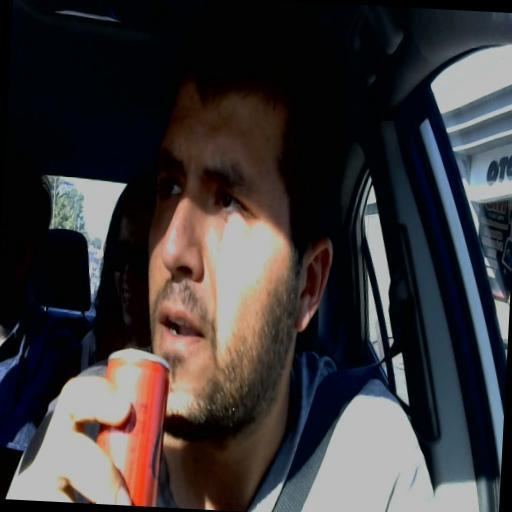Drinking: (56, 85, 335, 506)
